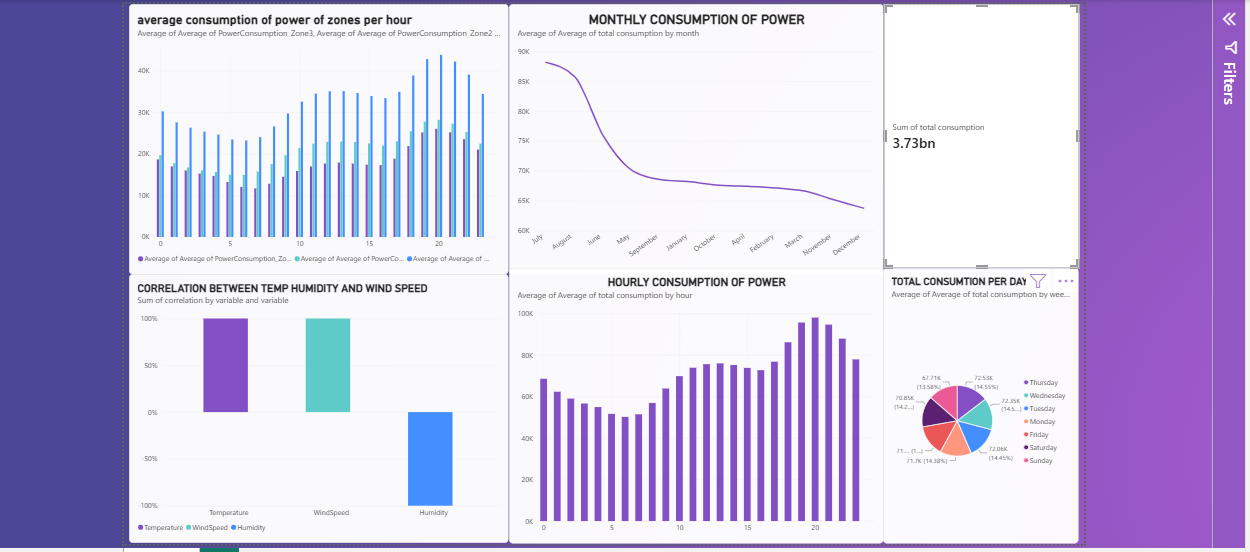

Layout of this report page (visuals, bound fields, positions):
{"tool":"powerbi","page":{"name":"Page 1","canvas":[1920,1080],"ordinal":0},"visuals":[{"type":"clusteredColumnChart","title":"average consumption of power of zones per hour","fields":{"Category":["average consumtion of e per h.hour"],"Y":["Avg(average consumtion of e per h.Average of PowerConsumption_Zone3)","Avg(average consumtion of e per h.Average of PowerConsumption_Zone2)","Avg(average consumtion of e per h.Average of PowerConsumption_Zone1)"]},"box":[10.2,0,759.4,541],"z":0},{"type":"hundredPercentStackedColumnChart","title":"CORRELATION BETWEEN TEMP HUMIDITY AND WIND SPEED","fields":{"Category":["corelation btw t h w.variable"],"Series":["corelation btw t h w.variable"],"Y":["Sum(corelation btw t h w.correlation)"]},"box":[10.2,541,759.4,538.4],"z":1},{"type":"lineChart","title":"MONTHLY CONSUMPTION OF POWER","fields":{"Category":["total consumption per month.month"],"Y":["Avg(total consumption per month.Average of total consumption)"]},"box":[769.5,0,749.2,541],"z":2},{"type":"clusteredColumnChart","title":"HOURLY CONSUMPTION OF POWER","fields":{"Category":["hourly consumption per hour.hour"],"Y":["Avg(hourly consumption per hour.Average of total consumption)"]},"box":[769.5,528.3,749.2,551.1],"z":3},{"type":"pieChart","title":"TOTAL CONSUMTION PER DAY ","fields":{"Category":["daily consumption per day.weekly"],"Y":["Avg(daily consumption per day.Average of total consumption)"]},"box":[1518.7,528.3,391.1,551.1],"z":4},{"type":"cardVisual","fields":{"Data":["Sum(power consumption data.total consumption)"]},"box":[1519,0,391,528],"z":5}]}

Visuals, with their boxes in screenshot pixels (x1, y1, x2, y2):
"average consumption of power of zones per hour" clusteredColumnChart: (344, 20, 714, 283)
"CORRELATION BETWEEN TEMP HUMIDITY AND WIND SPEED" hundredPercentStackedColumnChart: (344, 283, 714, 546)
"MONTHLY CONSUMPTION OF POWER" lineChart: (714, 20, 1079, 283)
"HOURLY CONSUMPTION OF POWER" clusteredColumnChart: (714, 277, 1079, 546)
"TOTAL CONSUMTION PER DAY " pieChart: (1079, 277, 1249, 546)
cardVisual - Sum(power consumption data.total consumption): (1079, 20, 1249, 277)
